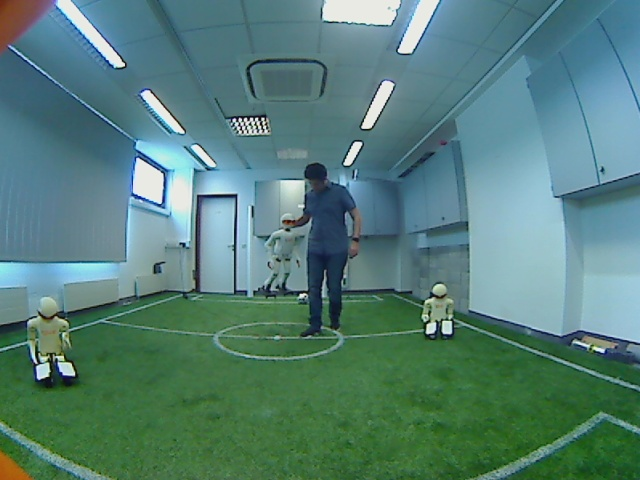ball: (293, 288, 314, 309)
robot: (19, 291, 88, 387), (255, 213, 297, 299), (414, 280, 462, 346)
